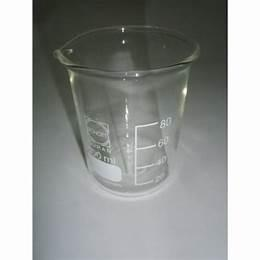Beaker: (49, 27, 201, 196)
